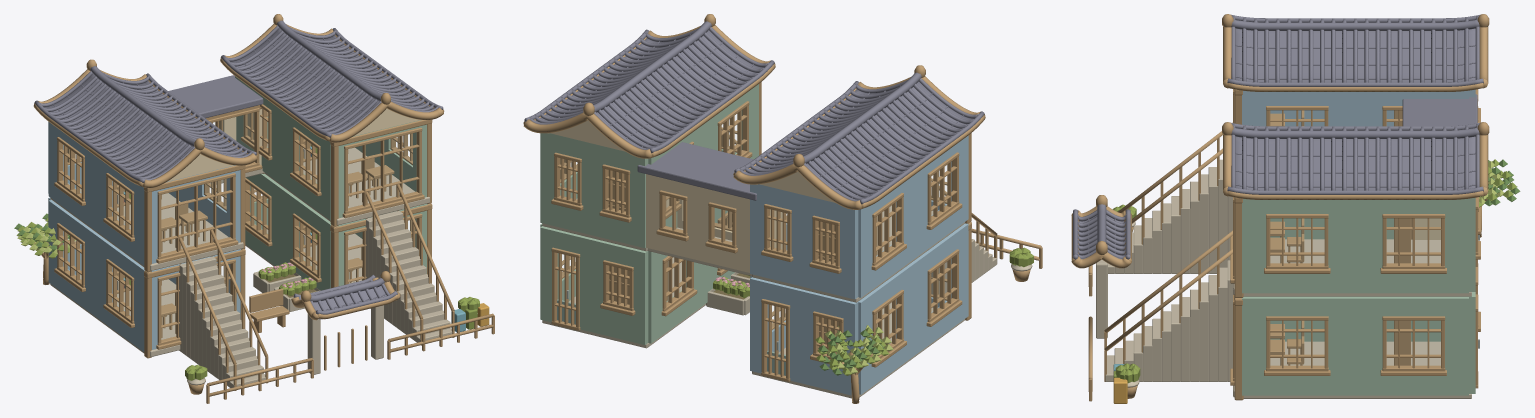
The picture shows the model from 3 angles, left to right: view 1: azimuth 30°, elevation 25°; view 2: azimuth 150°, elevation 25°; view 3: azimuth 270°, elevation 25°; orthographic projection. The views are drawn at different scales.
Parts seen in each view (by area): view 1: SM_28_04_门窗楼梯, SM_28_02_曲面屋顶, SM_28_01_建筑墙体, SM_28_03_木构回廊, SM_28_06_景观设施, SM_28_05_景观植物; view 2: SM_28_01_建筑墙体, SM_28_02_曲面屋顶, SM_28_04_门窗楼梯, SM_28_05_景观植物, SM_28_06_景观设施, SM_28_03_木构回廊; view 3: SM_28_02_曲面屋顶, SM_28_01_建筑墙体, SM_28_04_门窗楼梯, SM_28_06_景观设施, SM_28_03_木构回廊, SM_28_05_景观植物.
Part boxes in pixels (box(x1,y1,x2,y2)): SM_28_04_门窗楼梯: box(54, 104, 494, 403); SM_28_02_曲面屋顶: box(33, 14, 444, 320); SM_28_01_建筑墙体: box(48, 76, 429, 356); SM_28_03_木构回廊: box(144, 105, 432, 374); SM_28_06_景观设施: box(117, 138, 489, 337); SM_28_05_景观植物: box(14, 213, 479, 394); SM_28_01_建筑墙体: box(540, 84, 968, 398); SM_28_02_曲面屋顶: box(523, 14, 985, 209); SM_28_04_门窗楼梯: box(551, 101, 1042, 381); SM_28_05_景观植物: box(706, 247, 1033, 403); SM_28_06_景观设施: box(608, 170, 877, 348); SM_28_03_木构回廊: box(759, 82, 971, 320); SM_28_02_曲面屋顶: box(1071, 14, 1489, 268); SM_28_01_建筑墙体: box(1233, 89, 1475, 398); SM_28_04_门窗楼梯: box(1088, 89, 1480, 401); SM_28_06_景观设施: box(1113, 110, 1410, 403); SM_28_03_木构回廊: box(1096, 89, 1412, 400); SM_28_05_景观植物: box(1112, 159, 1520, 398).
Size of the model in its own units: 11.61 by 7.34 by 11.95.
